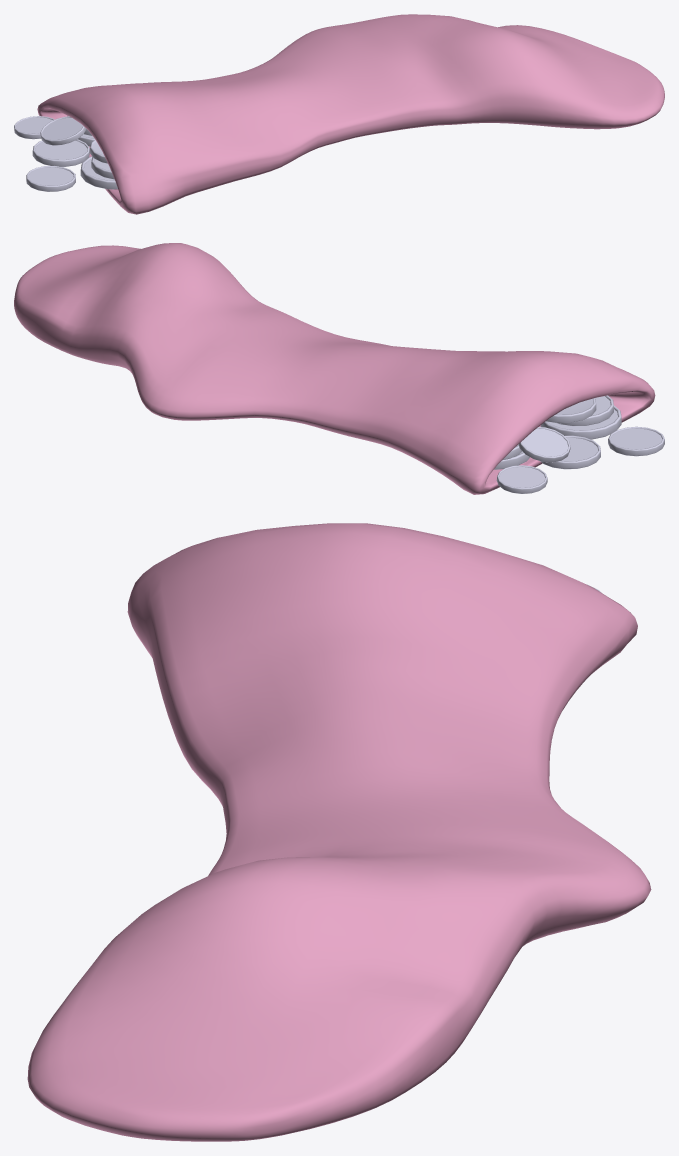
The model's file is Friday_MurderWeapon.fbx.
The picture shows the model from 3 angles, top to bottom: view 1: azimuth 30°, elevation 25°; view 2: azimuth 150°, elevation 25°; view 3: azimuth 270°, elevation 25°; orthographic projection. The views are drawn at different scales.
Visible parts, largest first — view 1: Sock, Coin5, Coin2, Coin3, Coin1, Coin11; view 2: Sock, Coin2, Coin3, Coin1, Coin5, Coin11, Coin, Coin4; view 3: Sock.
Part boxes in pixels (left/top/right/bottom): Sock: left=37, top=14, right=664, bottom=214; Coin5: left=32, top=139, right=89, bottom=166; Coin2: left=26, top=165, right=75, bottom=191; Coin3: left=40, top=116, right=86, bottom=145; Coin1: left=14, top=116, right=54, bottom=139; Coin11: left=80, top=156, right=117, bottom=189; Sock: left=14, top=243, right=655, bottom=494; Coin2: left=608, top=426, right=664, bottom=456; Coin3: left=518, top=427, right=570, bottom=462; Coin1: left=496, top=465, right=547, bottom=493; Coin5: left=540, top=435, right=600, bottom=469; Coin11: left=540, top=405, right=621, bottom=439; Coin: left=546, top=398, right=596, bottom=423; Coin4: left=556, top=395, right=613, bottom=426; Sock: left=27, top=523, right=651, bottom=1141.
Size of the model in its own units: 289 by 37.04 by 132.
